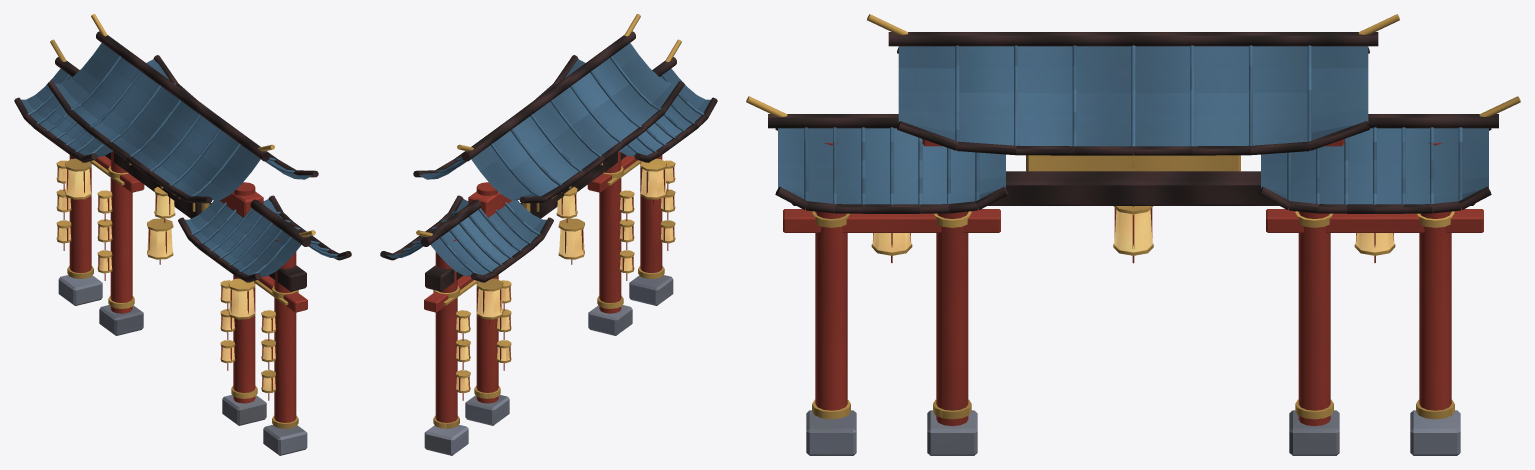
The model's file is model-paifang.glb.
3 renders of one model, left to right at view 1: azimuth 30°, elevation 25°; view 2: azimuth 150°, elevation 25°; view 3: azimuth 270°, elevation 25°, orthographic. The views are drawn at different scales.
Visible parts, largest first — view 1: model-paifang; view 2: model-paifang; view 3: model-paifang.
Boxes of the visible parts, x1=… form: model-paifang: x1=14, y1=14, x2=351, y2=455; model-paifang: x1=380, y1=14, x2=717, y2=455; model-paifang: x1=746, y1=14, x2=1520, y2=455.
Bounding box in the file's own units: 2.85 × 7.11 × 11.55.
Materials: 6 (6 with a texture image).
